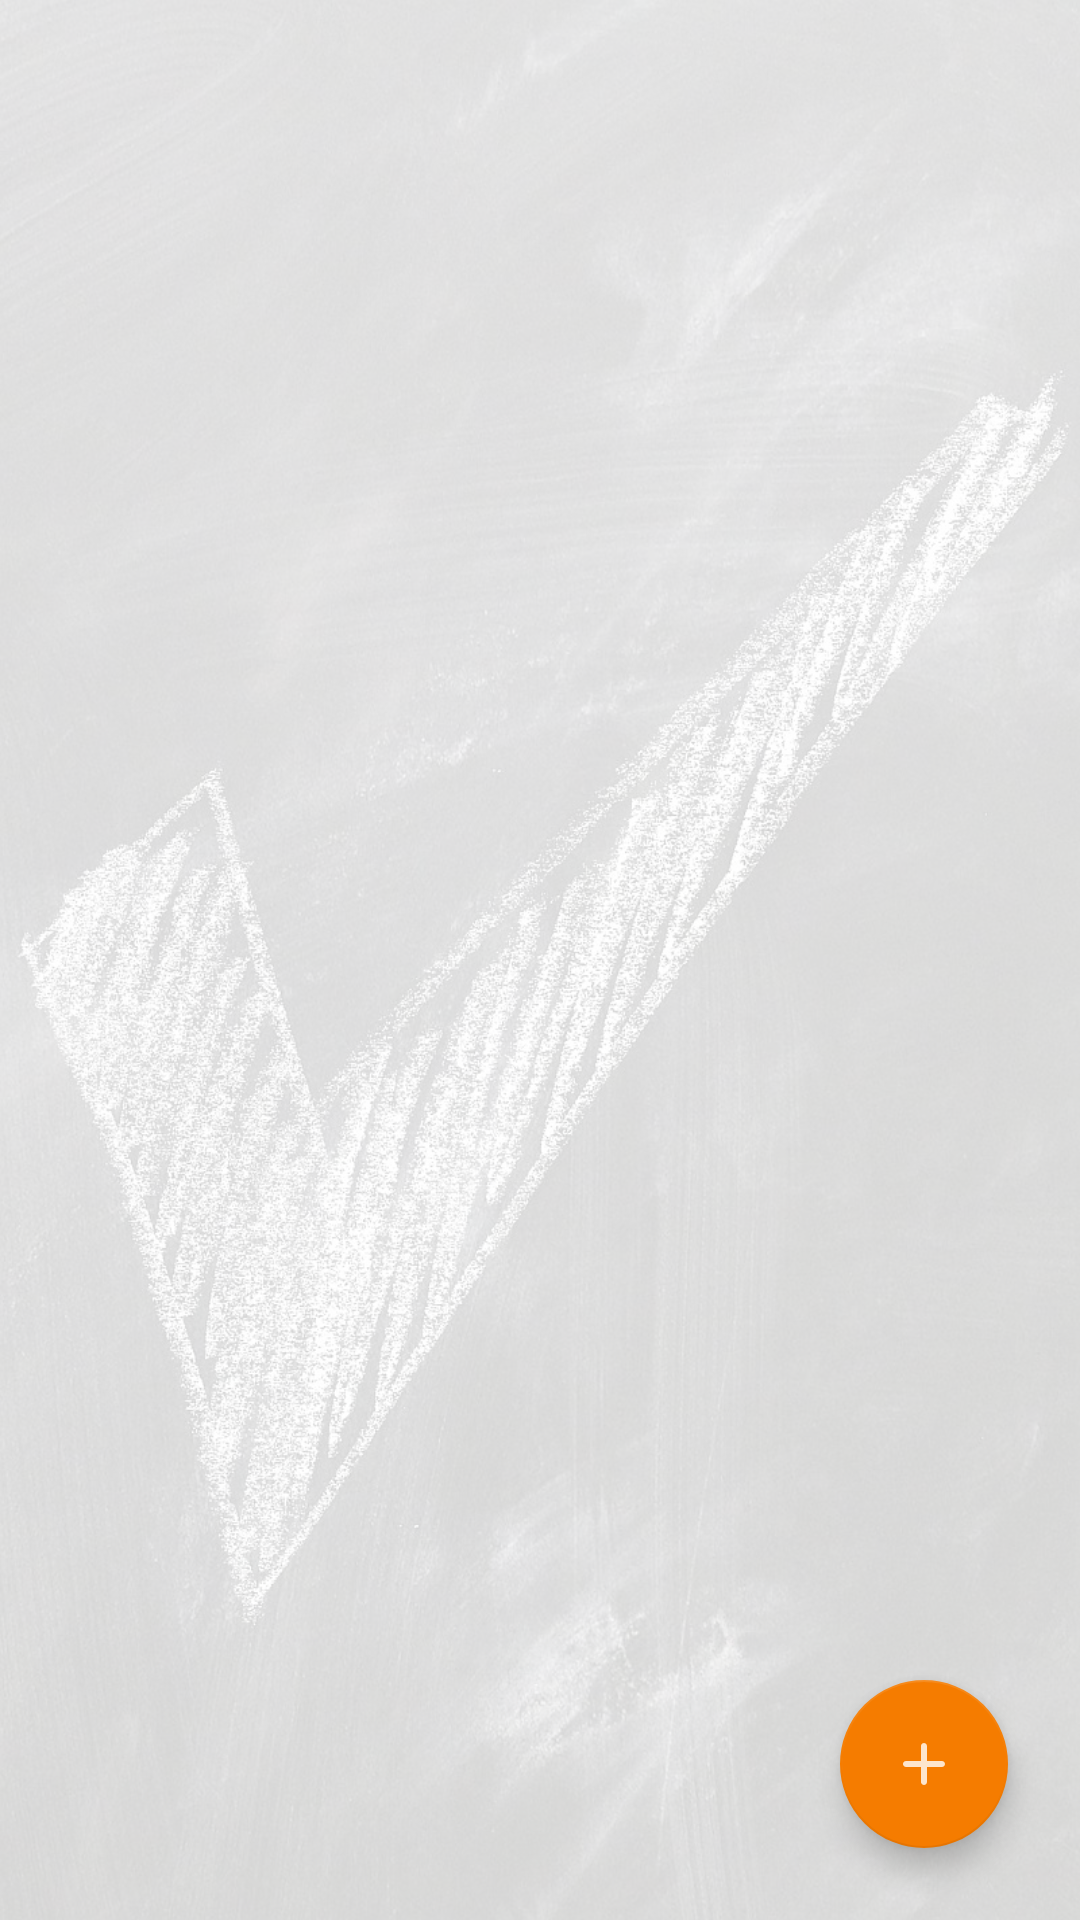

Icons on this 1080×1920 Android screen, each with the point to tap as (x=x, y=y):
add: (x=924, y=1764)
